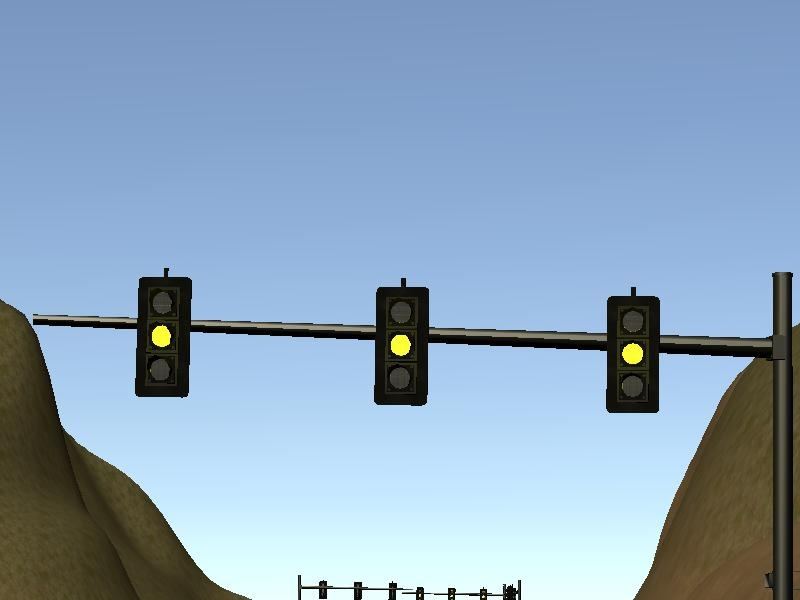YELLOW: (134, 264, 193, 399), (603, 288, 661, 416), (372, 276, 430, 404)
